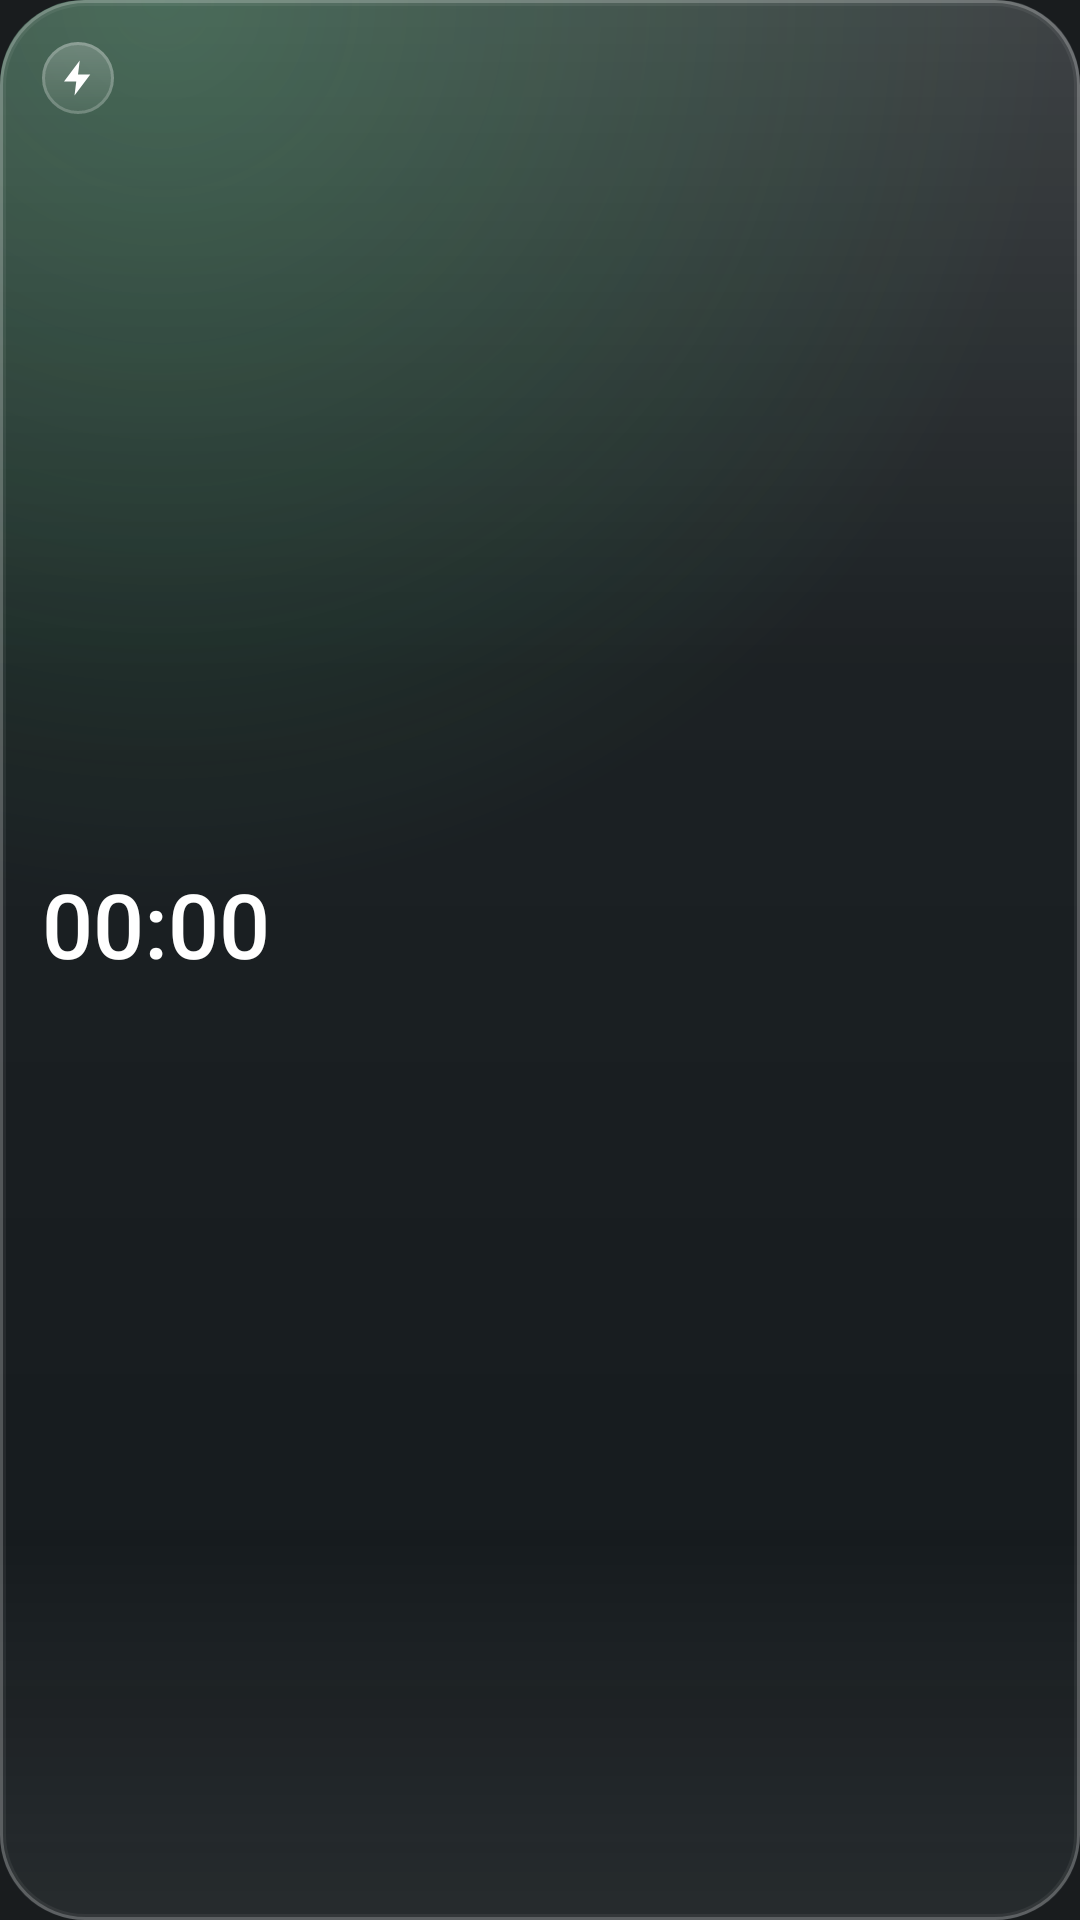

Icon click points for this 1080 x 1920 phone screenshot, format (x,y):
widget bolt: (78,78)
